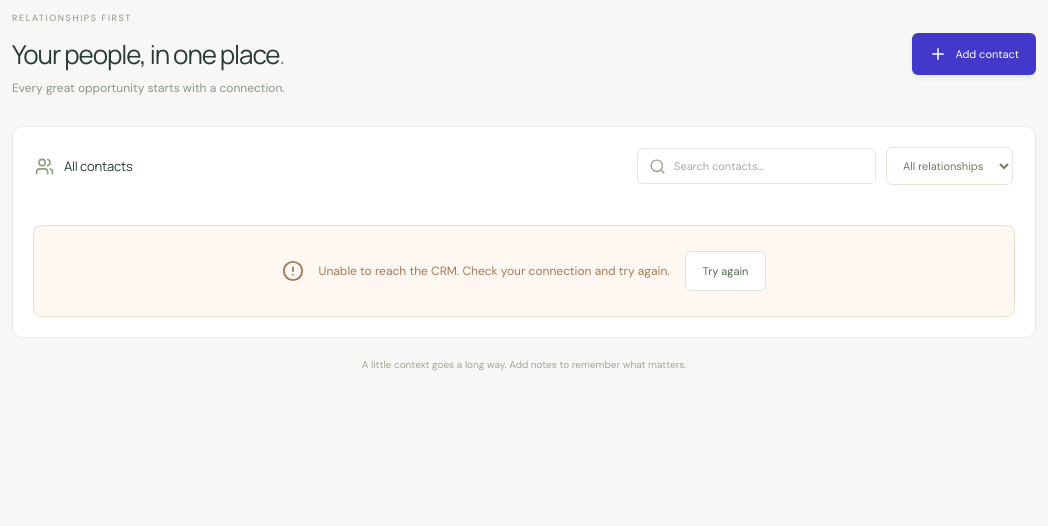
Test: dashboard and error handling › lets the user retry a failed request
Check: the message shows "Unable to reach", box left=319, top=263, right=670, bottom=279
What coordinates should you click on to do the following:
click the button "Try again"
I would click on:
 (726, 271)
Its box is left=685, top=251, right=766, bottom=291.
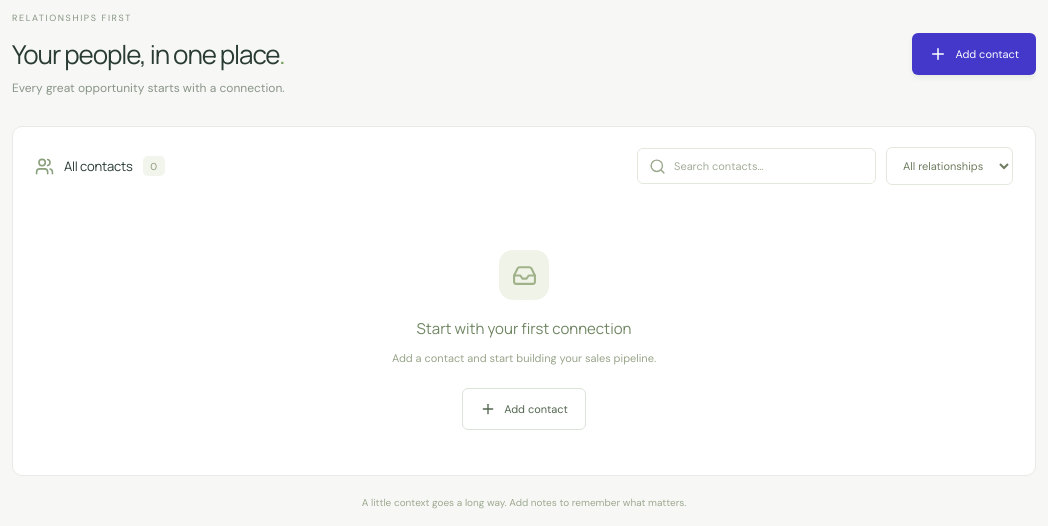
Check: the heading "Start with your first connection" is shown, box left=417, top=318, right=632, bottom=339
